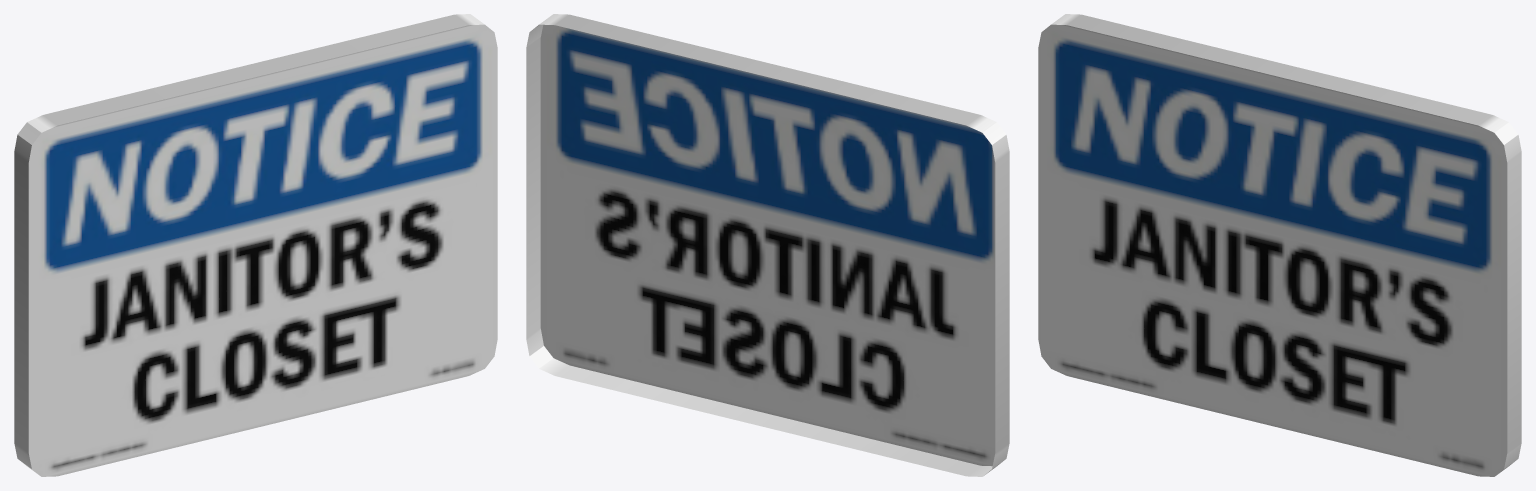
The model's file is janitor_sign.FBX.
3 views of the same model, side by side, from view 1: azimuth 30°, elevation 25°; view 2: azimuth 150°, elevation 25°; view 3: azimuth 330°, elevation 25° (orthographic).
Visible parts, largest first — view 1: janitor_sign; view 2: janitor_sign; view 3: janitor_sign.
Boxes of the visible parts, x1=… form: janitor_sign: x1=14, y1=14, x2=497, y2=476; janitor_sign: x1=526, y1=14, x2=1009, y2=476; janitor_sign: x1=1038, y1=14, x2=1521, y2=476.
Size of the model in its own units: 14.61 by 10.45 by 0.7841.
